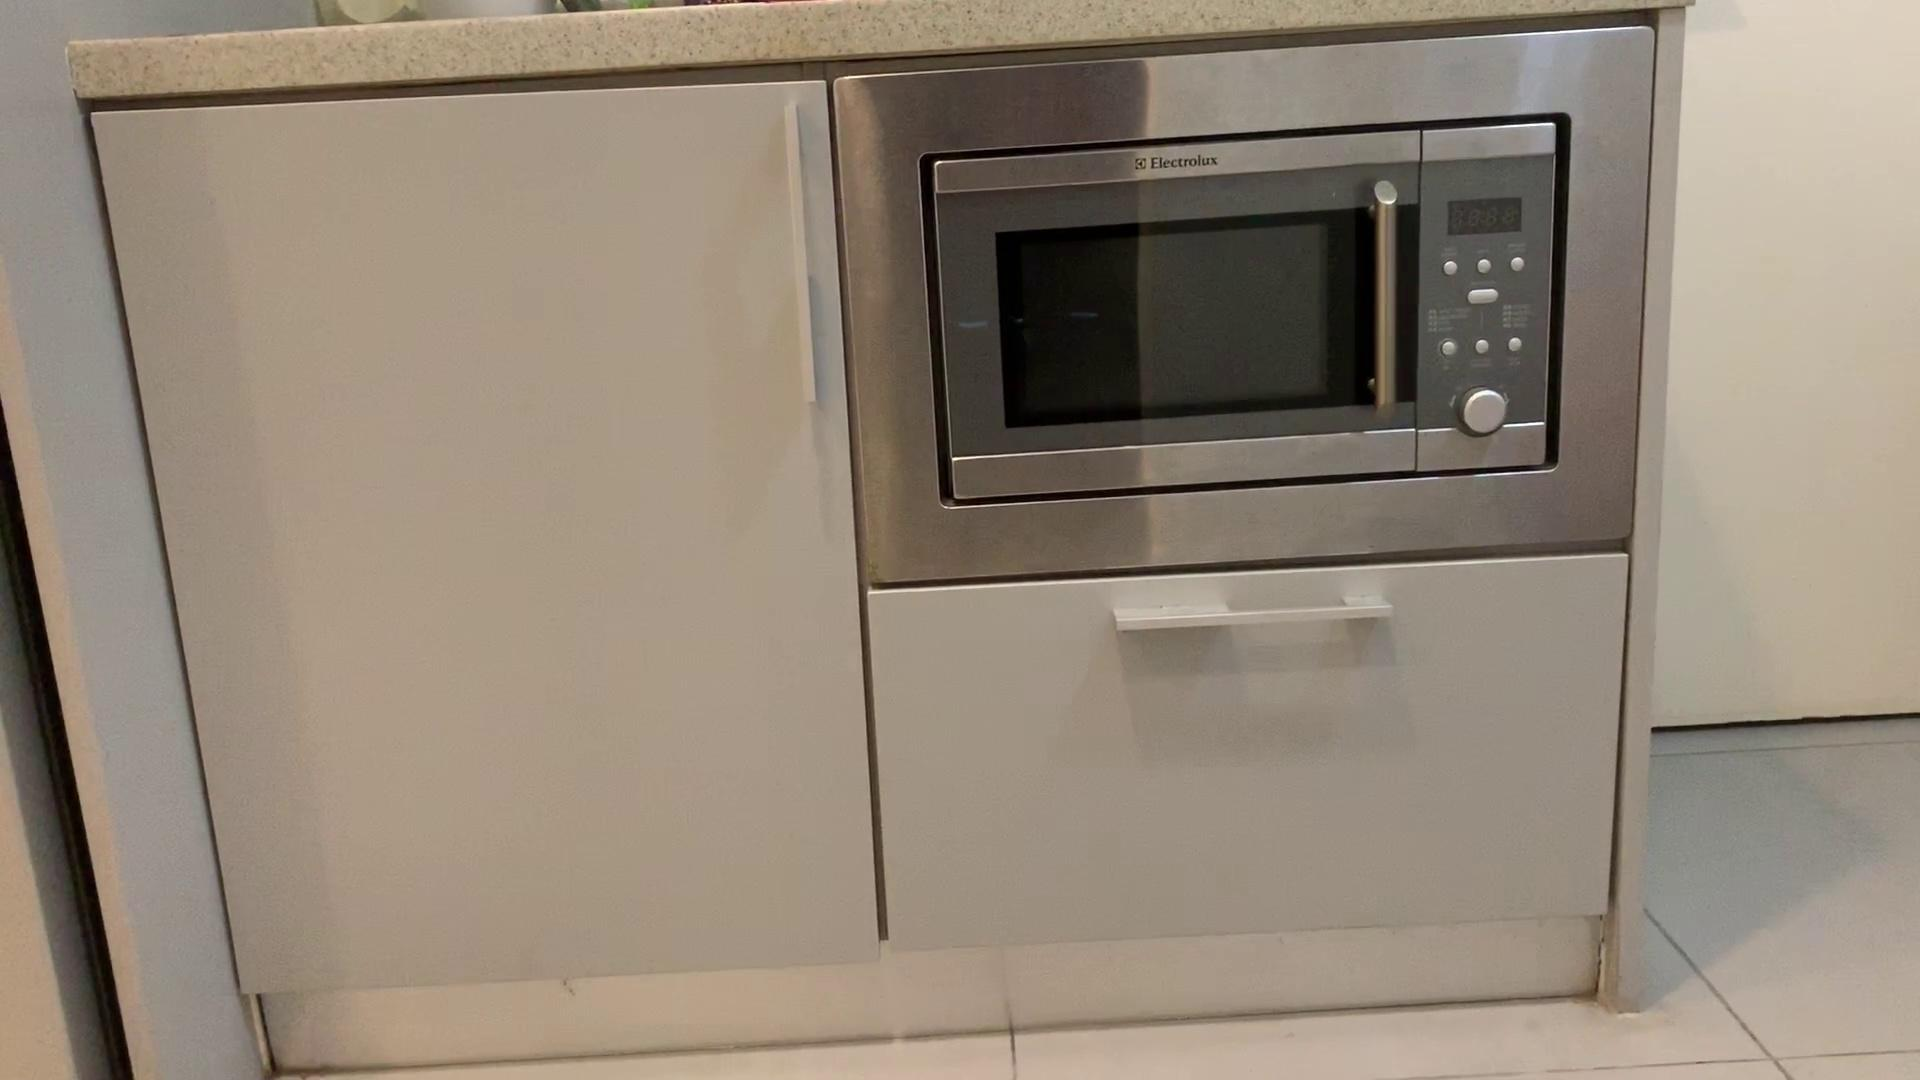cabinet_door: (55, 84, 856, 982), (880, 576, 1623, 938)
handle: (1102, 584, 1416, 647), (775, 92, 828, 419)
